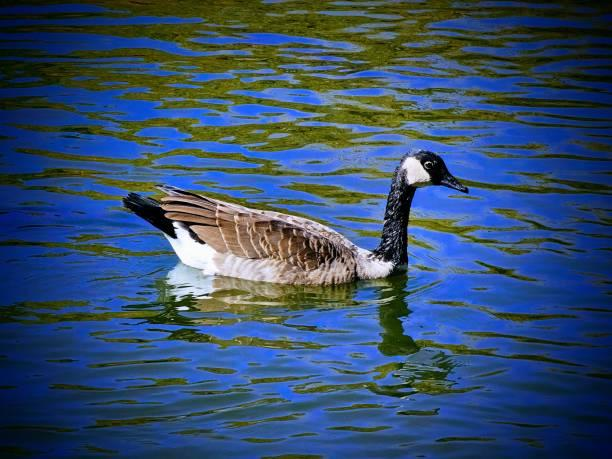Canadian-Goose: (125, 144, 461, 290)
